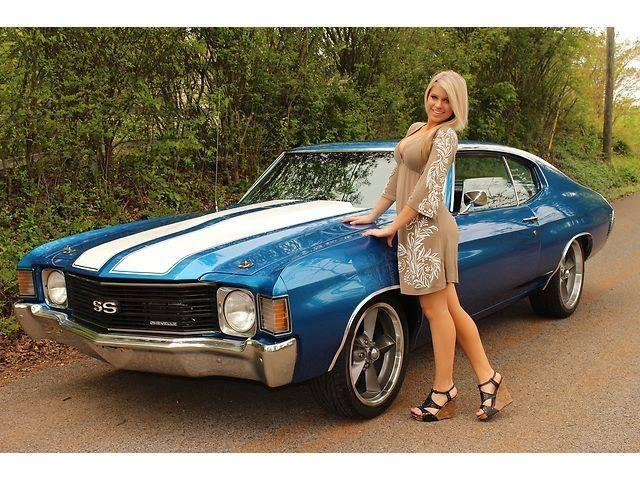chevelle-1972: (14, 132, 615, 418)
